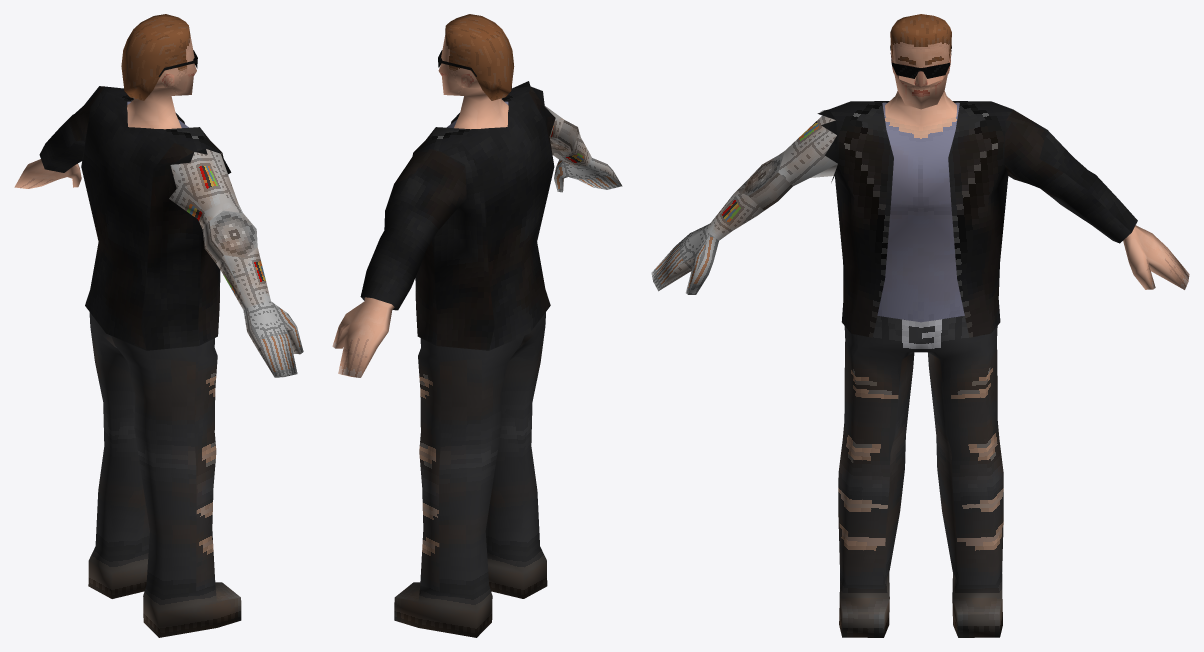
The picture shows the model from 3 angles, left to right: view 1: azimuth 30°, elevation 25°; view 2: azimuth 150°, elevation 25°; view 3: azimuth 270°, elevation 25°; orthographic projection. The views are drawn at different scales.
Parts seen in each view (by area): view 1: max; view 2: max; view 3: max.
Part boxes in pixels (<box>): max: <box>14,14,303,637</box>; max: <box>332,14,622,637</box>; max: <box>651,14,1189,637</box>.
Size of the model in its own units: 0.3639 by 1.98 by 1.61.
Materials: 1 (1 with a texture image).
